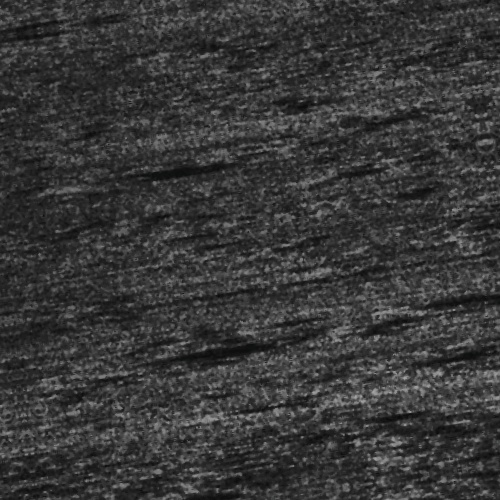object: (31, 342, 166, 353), (57, 481, 150, 492), (84, 154, 177, 163)
shadow: (131, 154, 273, 163), (99, 342, 213, 353), (104, 481, 203, 492)
